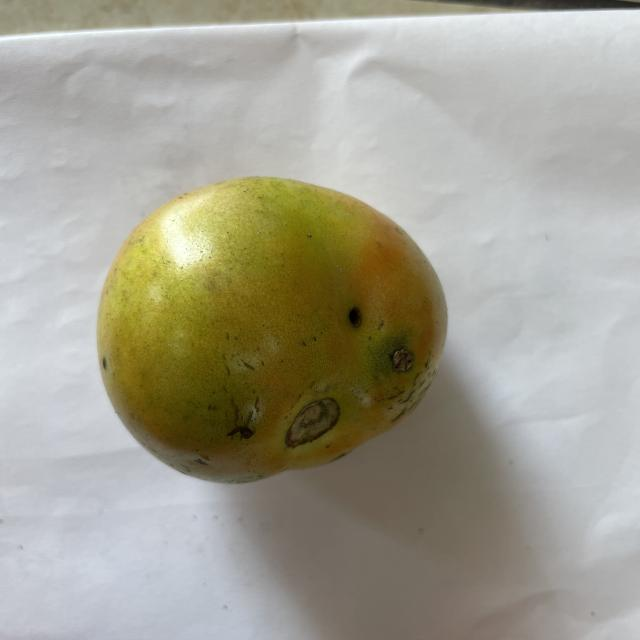fruitworm_bore: (331, 297, 421, 384)
